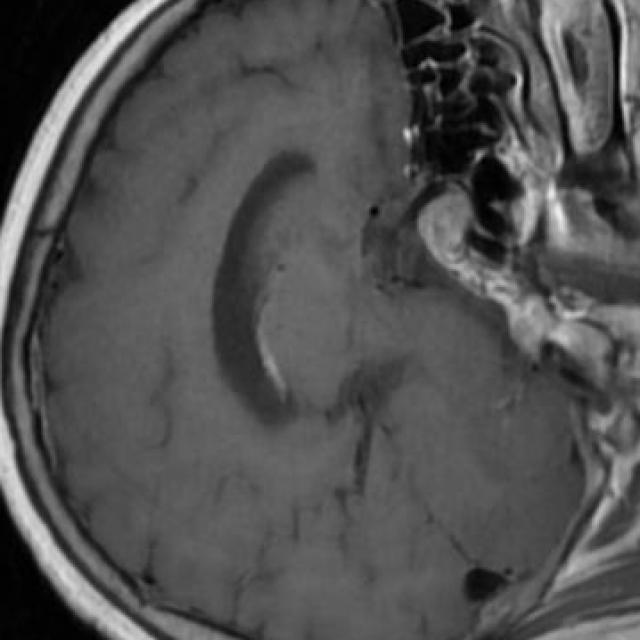pituitary: (415, 193, 472, 264)
